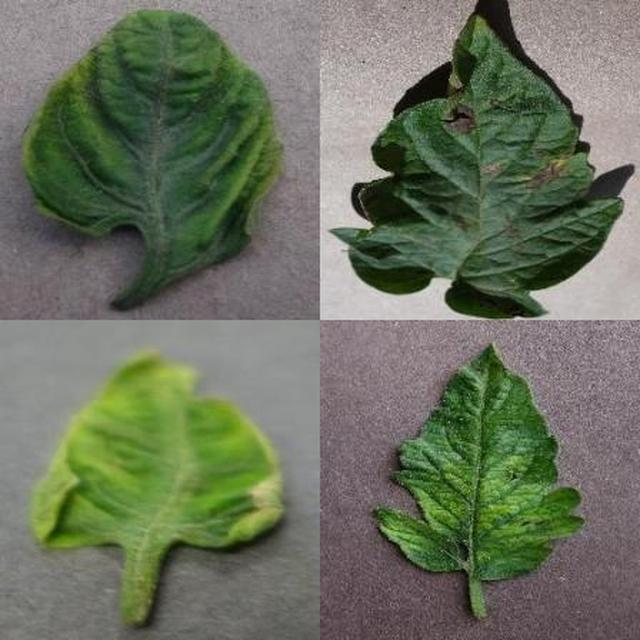Yellow Leaf Curl Virus: (221, 202, 640, 640)
